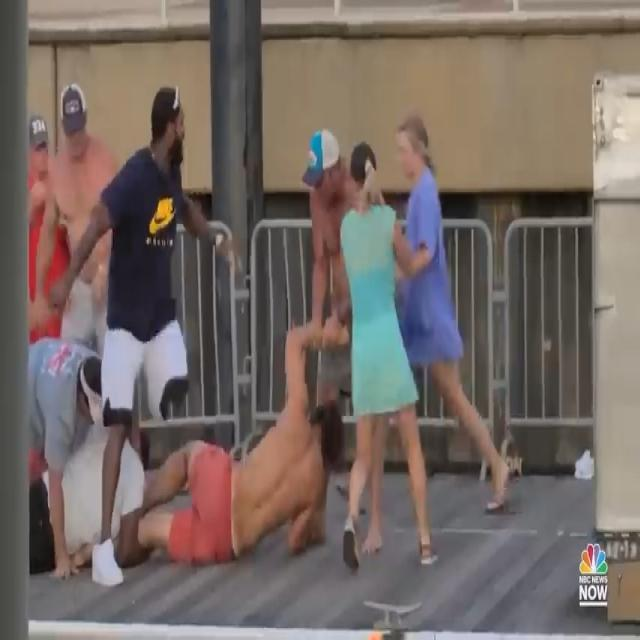fight: (26, 82, 512, 598)
